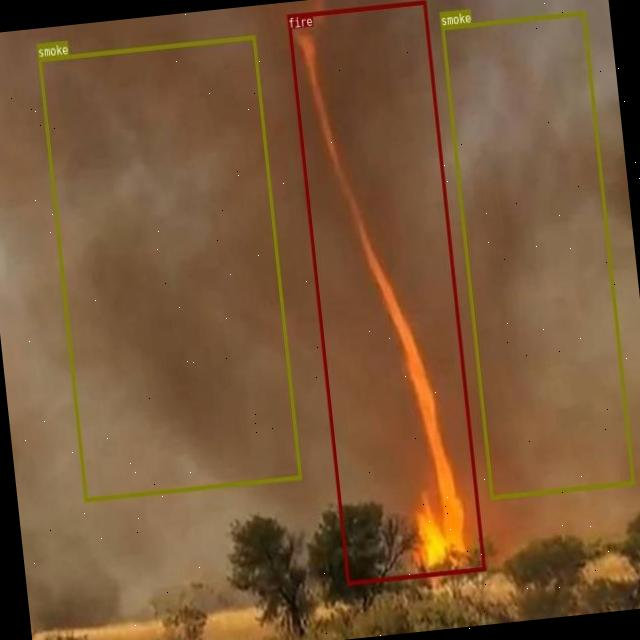fire: (287, 1, 485, 584)
smoke: (37, 34, 301, 500), (440, 11, 634, 498)
